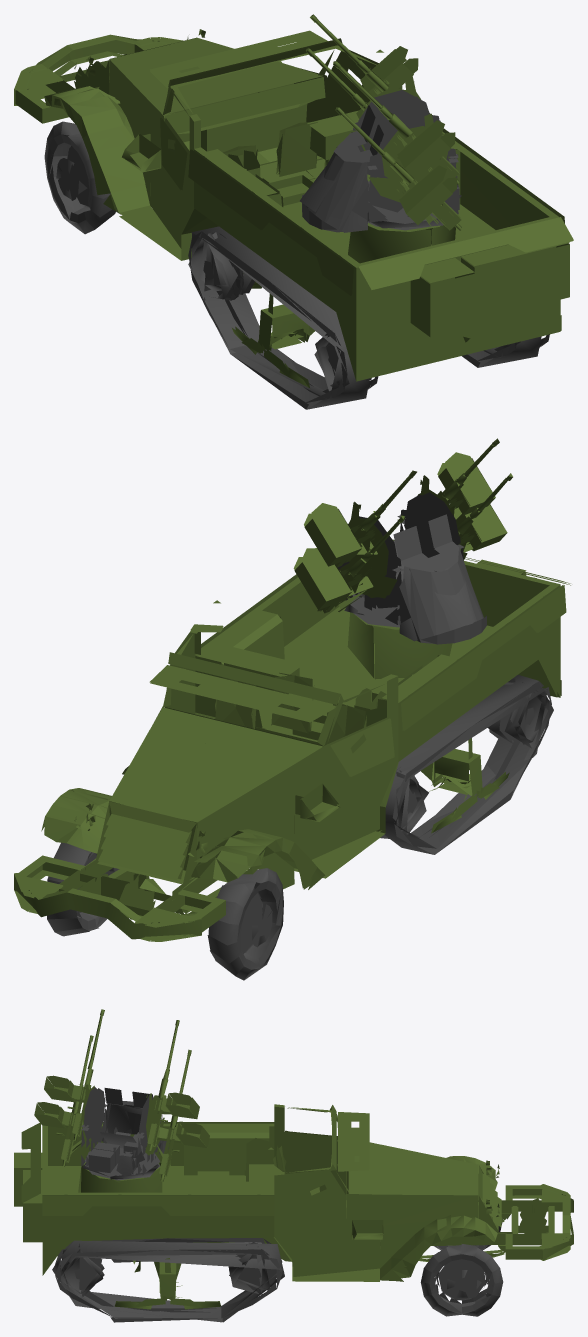
Rendered from M2FiftyQuadLOD0.glb.
3 views of the same model, one above another, from view 1: azimuth 30°, elevation 25°; view 2: azimuth 150°, elevation 25°; view 3: azimuth 270°, elevation 25° (orthographic). The views are drawn at different scales.
Parts seen in each view (by area): view 1: wheelr2_wheelr2.001; view 2: wheelr2_wheelr2.001; view 3: wheelr2_wheelr2.001.
Part boxes in pixels (x1,y1,x2,y2): wheelr2_wheelr2.001: (14, 14, 573, 409); wheelr2_wheelr2.001: (14, 438, 570, 980); wheelr2_wheelr2.001: (14, 1009, 573, 1322).
Bounding box in the file's own units: 29.72 × 45.46 × 92.26.
